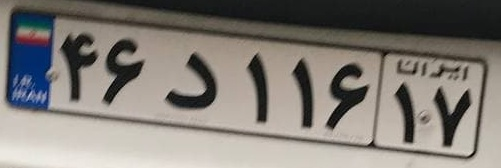character: (157, 44, 227, 112), (100, 31, 151, 108), (323, 58, 372, 133), (56, 25, 99, 106), (240, 45, 278, 129), (283, 50, 316, 130), (433, 83, 471, 149), (387, 79, 420, 148)
